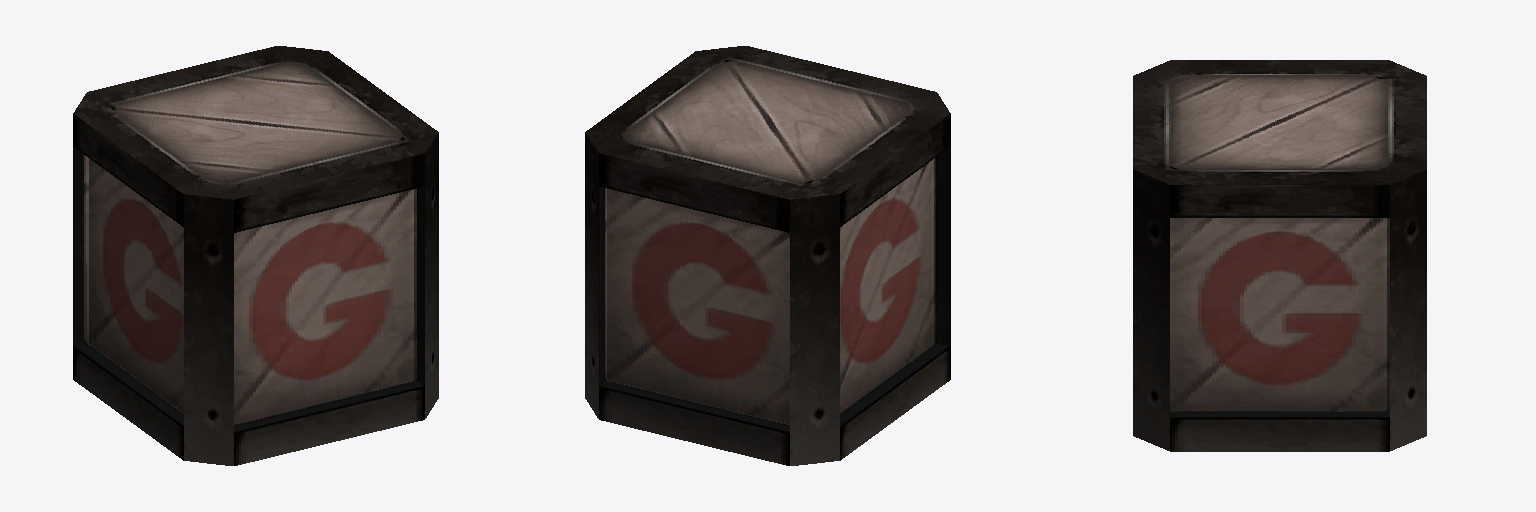
The picture shows the model from 3 angles: view 1: azimuth 30°, elevation 25°; view 2: azimuth 150°, elevation 25°; view 3: azimuth 270°, elevation 25°; orthographic projection.
Parts seen in each view (by area): view 1: Object01; view 2: Object01; view 3: Object01.
Boxes of the visible parts, x1=… form: Object01: x1=73, y1=46, x2=438, y2=465; Object01: x1=585, y1=46, x2=950, y2=465; Object01: x1=1133, y1=60, x2=1426, y2=451.
Bounding box in the file's own units: 24 × 24 × 24.
1 materials, 1 textured.